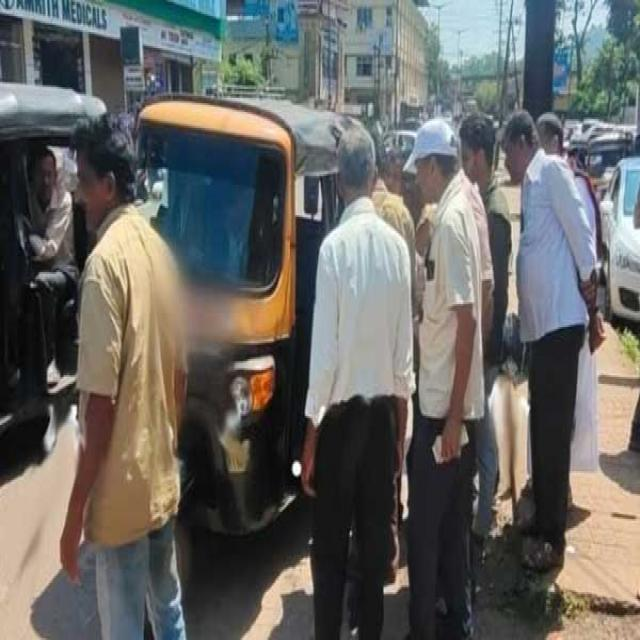autorikshaw: (129, 92, 365, 602)
